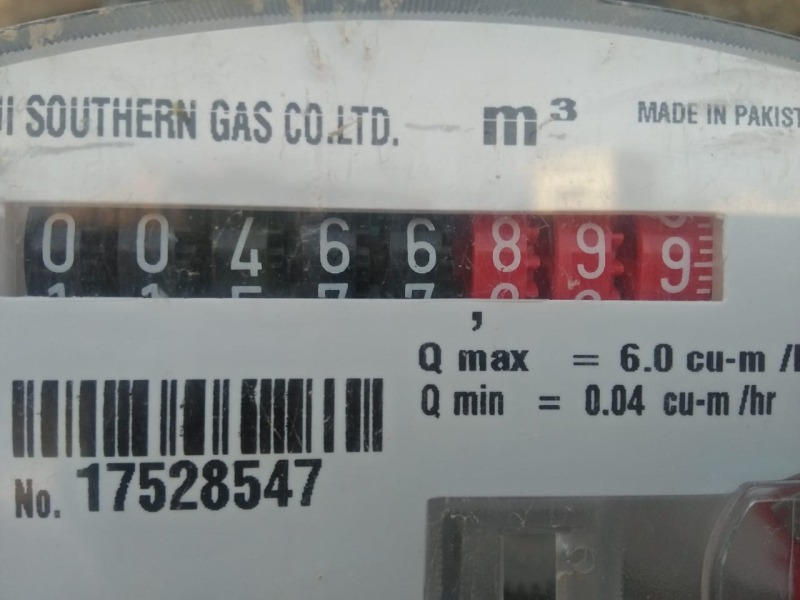ssgc: (17, 196, 724, 310)
